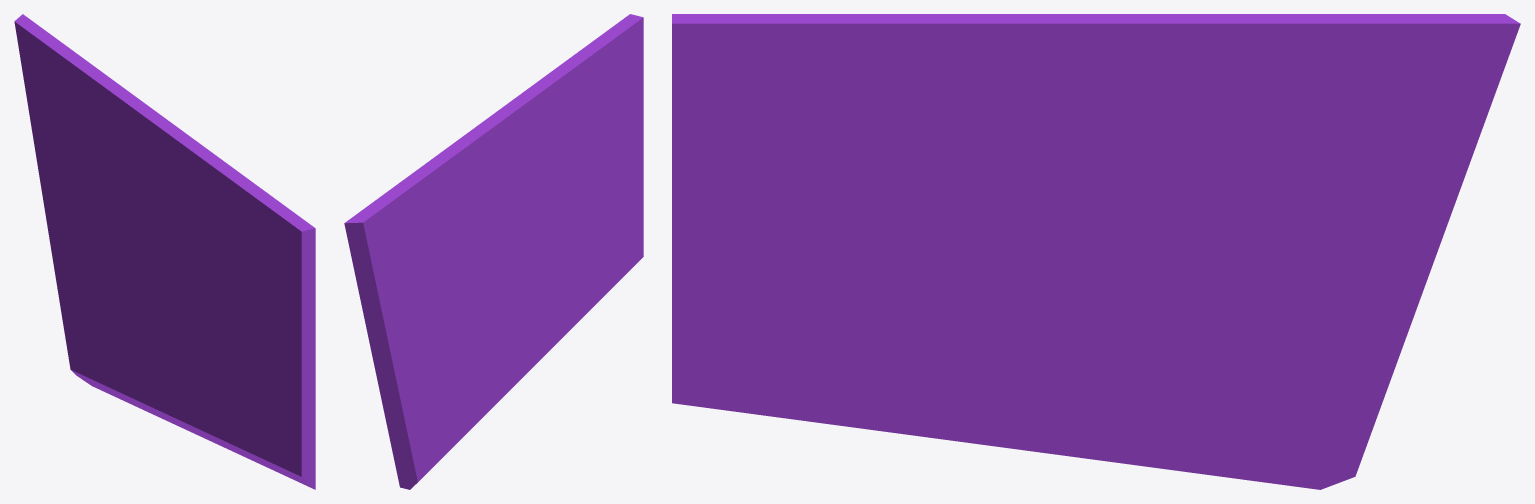
File: Glass_109_3_chunks.fbx
The picture shows the model from 3 angles, left to right: view 1: azimuth 30°, elevation 25°; view 2: azimuth 150°, elevation 25°; view 3: azimuth 270°, elevation 25°; orthographic projection. The views are drawn at different scales.
Parts seen in each view (by area): view 1: Glass_109_3_13, Glass_109_3_14, Glass_109_3_10, Glass_109_3_3, Glass_109_3_17, Glass_109_3_9, Glass_109_3_0, Glass_109_3_12, Glass_109_3_16, Glass_109_3_7, Glass_109_3_1, Glass_109_3_11 (+3 smaller); view 2: Glass_109_3_14, Glass_109_3_13, Glass_109_3_10, Glass_109_3_17, Glass_109_3_3, Glass_109_3_9, Glass_109_3_16, Glass_109_3_12, Glass_109_3_0, Glass_109_3_15, Glass_109_3_7, Glass_109_3_1 (+3 smaller); view 3: Glass_109_3_14, Glass_109_3_13, Glass_109_3_10, Glass_109_3_3, Glass_109_3_12, Glass_109_3_8, Glass_109_3_0, Glass_109_3_17, Glass_109_3_16, Glass_109_3_1, Glass_109_3_15, Glass_109_3_18 (+2 smaller).
Boxes of the visible parts, left/top/right/bottom form: Glass_109_3_13: left=213, top=163, right=315, bottom=433; Glass_109_3_14: left=105, top=83, right=225, bottom=307; Glass_109_3_10: left=41, top=37, right=149, bottom=311; Glass_109_3_3: left=105, top=316, right=203, bottom=432; Glass_109_3_17: left=14, top=14, right=82, bottom=220; Glass_109_3_9: left=72, top=268, right=144, bottom=388; Glass_109_3_0: left=197, top=360, right=315, bottom=489; Glass_109_3_12: left=169, top=291, right=315, bottom=445; Glass_109_3_16: left=50, top=209, right=92, bottom=342; Glass_109_3_7: left=144, top=287, right=224, bottom=380; Glass_109_3_1: left=188, top=401, right=299, bottom=482; Glass_109_3_11: left=208, top=276, right=277, bottom=392; Glass_109_3_14: left=437, top=78, right=561, bottom=288; Glass_109_3_13: left=543, top=14, right=643, bottom=214; Glass_109_3_10: left=375, top=155, right=494, bottom=350; Glass_109_3_17: left=344, top=201, right=429, bottom=343; Glass_109_3_3: left=452, top=292, right=548, bottom=447; Glass_109_3_9: left=419, top=320, right=490, bottom=476; Glass_109_3_16: left=381, top=320, right=439, bottom=462; Glass_109_3_12: left=515, top=208, right=643, bottom=279; Glass_109_3_0: left=542, top=228, right=643, bottom=321; Glass_109_3_15: left=351, top=257, right=405, bottom=396; Glass_109_3_7: left=490, top=259, right=568, bottom=323; Glass_109_3_1: left=532, top=303, right=596, bottom=367; Glass_109_3_14: left=920, top=14, right=1245, bottom=280; Glass_109_3_13: left=672, top=14, right=931, bottom=312; Glass_109_3_10: left=1111, top=14, right=1430, bottom=319; Glass_109_3_3: left=966, top=277, right=1273, bottom=483; Glass_109_3_12: left=672, top=188, right=1081, bottom=330; Glass_109_3_8: left=1183, top=298, right=1371, bottom=489; Glass_109_3_0: left=672, top=293, right=979, bottom=408; Glass_109_3_17: left=1316, top=14, right=1520, bottom=233; Glass_109_3_16: left=1280, top=233, right=1411, bottom=430; Glass_109_3_1: left=714, top=374, right=1030, bottom=451; Glass_109_3_15: left=1383, top=82, right=1499, bottom=320; Glass_109_3_18: left=1321, top=116, right=1472, bottom=256.
Size of the model in its own units: 27.2 by 601 by 993.
